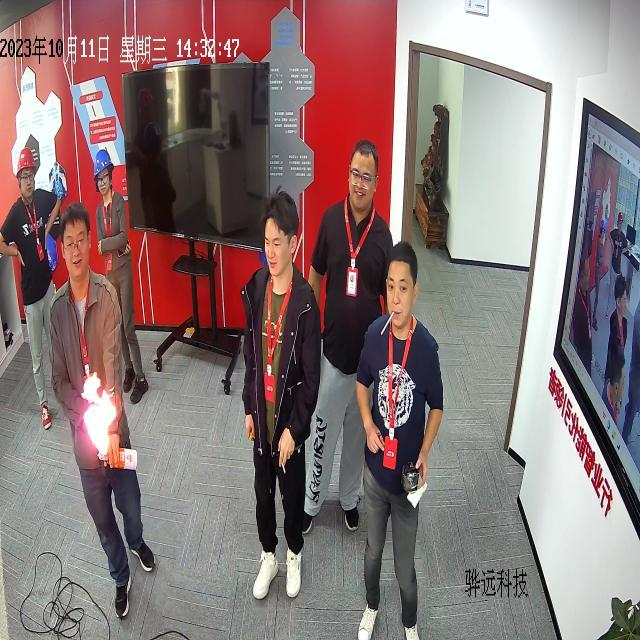Fire: (81, 373, 117, 457)
